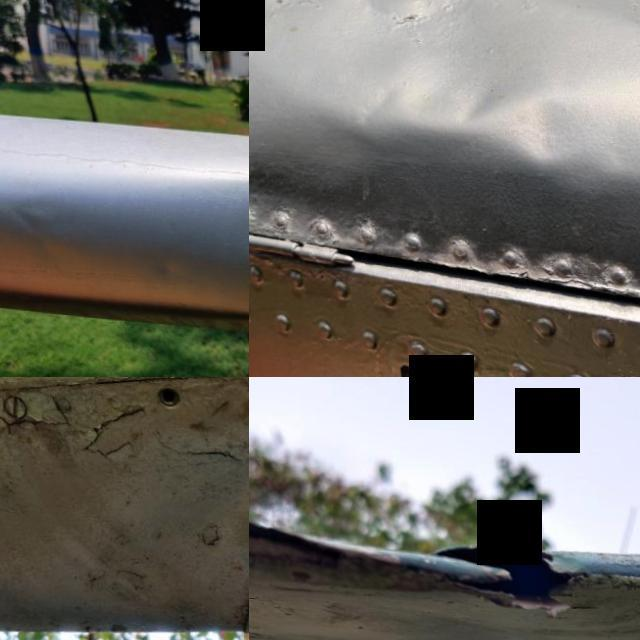Crack: (417, 522, 600, 624)
Dent: (251, 0, 594, 191), (190, 377, 249, 640)
Missing_Fastener: (142, 377, 196, 419)
